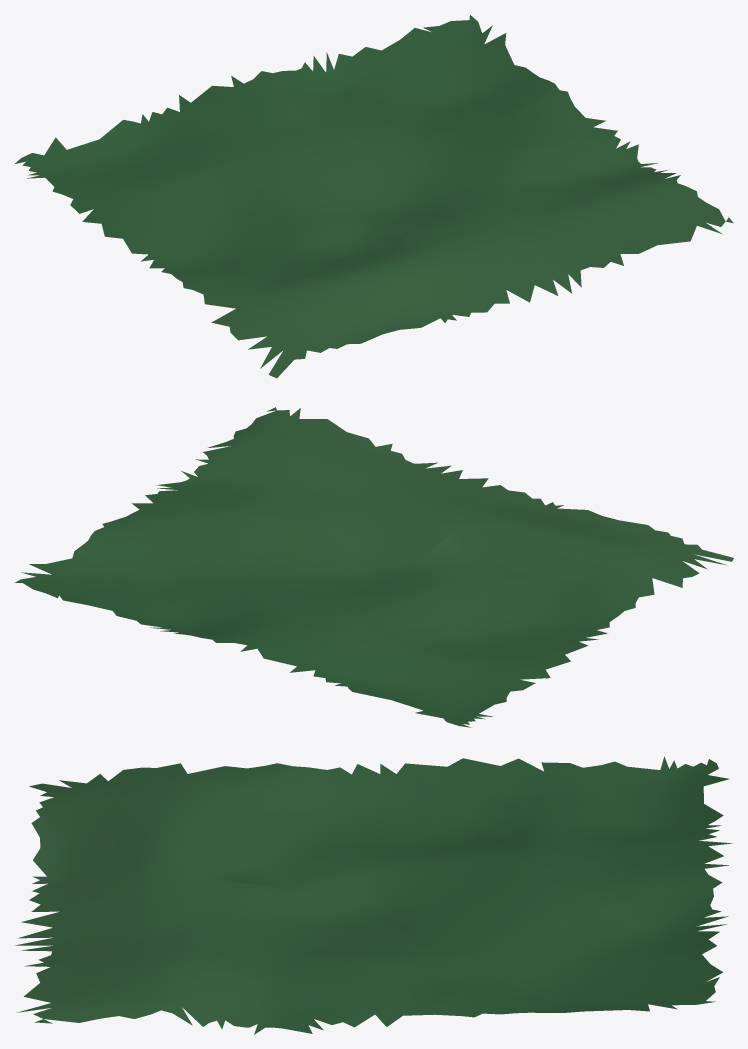
The model's file is payo_land_x0_y7_lod1.glb.
The picture shows the model from 3 angles, top to bottom: view 1: azimuth 30°, elevation 25°; view 2: azimuth 150°, elevation 25°; view 3: azimuth 270°, elevation 25°; orthographic projection. The views are drawn at different scales.
Visible parts, largest first — view 1: payo_land_x0_y7; view 2: payo_land_x0_y7; view 3: payo_land_x0_y7.
Boxes of the visible parts, x1=… form: payo_land_x0_y7: x1=15, y1=15, x2=733, y2=378; payo_land_x0_y7: x1=15, y1=407, x2=733, y2=727; payo_land_x0_y7: x1=15, y1=756, x2=732, y2=1034.
Bounding box in the file's own units: 271 × 30.95 × 273.
